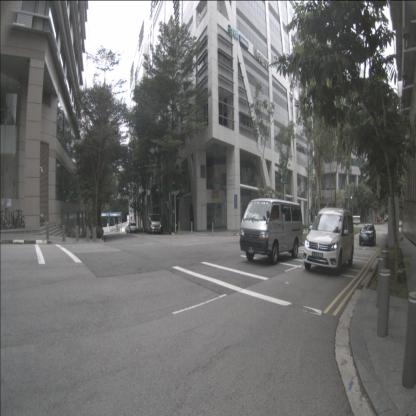human-pedestrian-adult: (242, 213, 244, 228)
vehicle-bicycle: (37, 211, 45, 226)
vehicle-bus-rigid: (346, 215, 361, 226)
vehicle-car: (239, 197, 303, 265), (303, 206, 354, 276), (359, 223, 376, 247), (146, 214, 162, 234), (128, 220, 137, 233), (126, 225, 132, 234), (384, 215, 390, 222), (377, 216, 382, 224)
